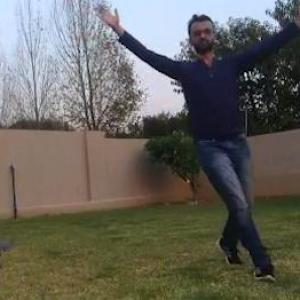takeoff: (90, 1, 300, 275)
